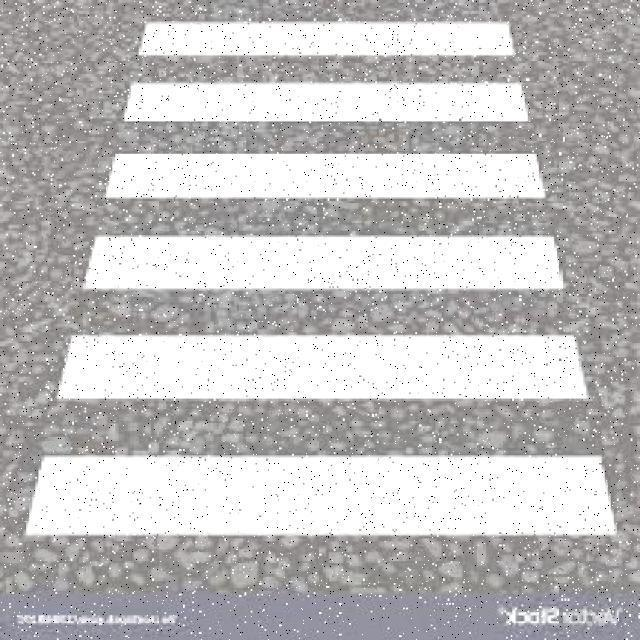Pedestrian crosswalk: (3, 0, 640, 566)
